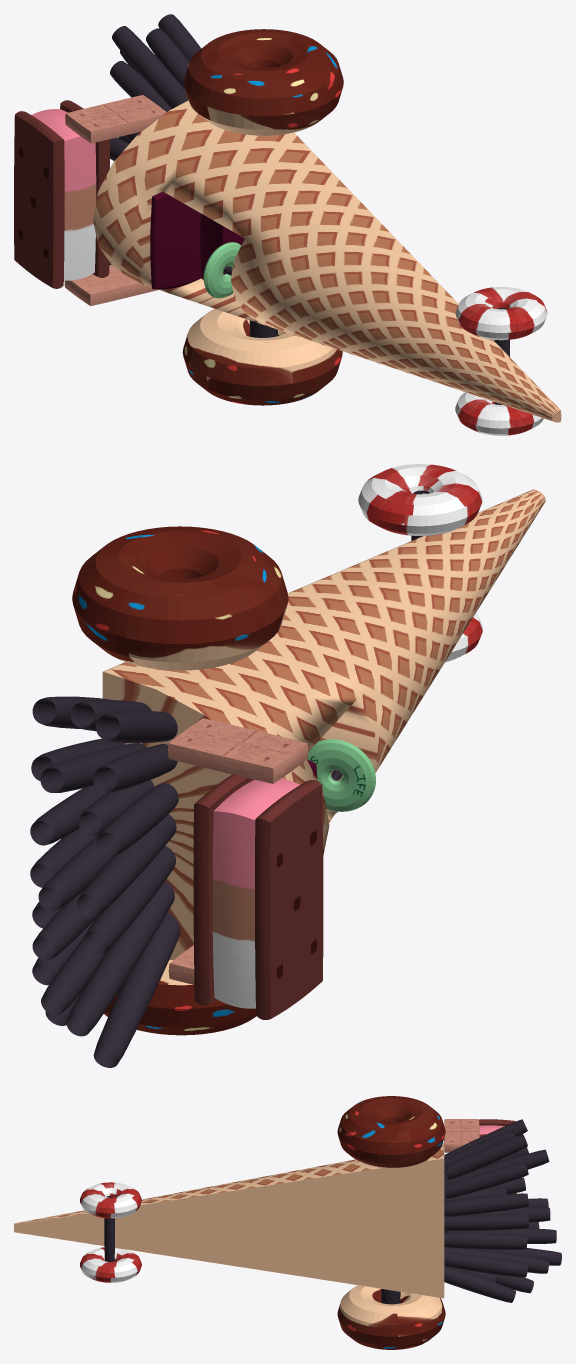
The model's file is DessertCarFinal.fbx.
The picture shows the model from 3 angles, top to bottom: view 1: azimuth 30°, elevation 25°; view 2: azimuth 150°, elevation 25°; view 3: azimuth 270°, elevation 25°; orthographic projection. The views are drawn at different scales.
Visible parts, largest first — view 1: Cone001, BR Wheel, BL Wheel, Cube.002, Torus.001, Cube.001, Cube.005, TR Wheel, Cube.003, TL Wheel, Cube.004, Torus.026 (+2 smaller); view 2: Cone001, Torus.001, BR Wheel, Cube.002, Cube.001, TR Wheel, Cube.003, Cube, BL Wheel, Torus.026, TL Wheel, Cube.004; view 3: Cone001, Torus.001, BR Wheel, BL Wheel, TR Wheel, TL Wheel, Cube.003, Torus.029.
Part boxes in pixels (box(x1,y1,x2,y2)): Cone001: box(93, 100, 561, 422); BR Wheel: box(183, 29, 343, 135); BL Wheel: box(182, 308, 342, 405); Cube.002: box(14, 111, 64, 288); Torus.001: box(109, 14, 201, 264); Cube.001: box(31, 109, 96, 280); Cube.005: box(150, 191, 201, 289); TR Wheel: box(455, 287, 547, 340); Cube.003: box(65, 95, 166, 143); TL Wheel: box(455, 392, 543, 435); Cube.004: box(64, 265, 158, 306); Torus.026: box(203, 242, 241, 298); Cone001: box(102, 489, 545, 960); Torus.001: box(30, 696, 180, 1067); BR Wheel: box(72, 526, 288, 670); Cube.002: box(255, 780, 323, 1019); Cube.001: box(212, 778, 299, 1008); TR Wheel: box(358, 464, 482, 535); Cube.003: box(168, 718, 308, 783); Cube: box(193, 774, 253, 1005); BL Wheel: box(104, 960, 256, 1035); Torus.026: box(307, 739, 375, 811); TL Wheel: box(445, 612, 482, 662); Cube.004: box(168, 945, 194, 984); Cone001: box(14, 1143, 444, 1298); Torus.001: box(444, 1119, 561, 1302); BR Wheel: box(337, 1096, 445, 1167); BL Wheel: box(337, 1285, 445, 1349); TR Wheel: box(80, 1182, 141, 1218); TL Wheel: box(80, 1247, 141, 1282); Cube.003: box(444, 1119, 479, 1152); Torus.029: box(104, 1196, 114, 1261).
Bounding box in the file's own units: 163 × 226 × 501.
18 materials, 18 textured.
